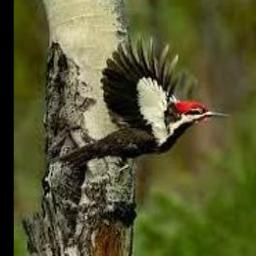Woodpecker: (52, 35, 230, 171)
